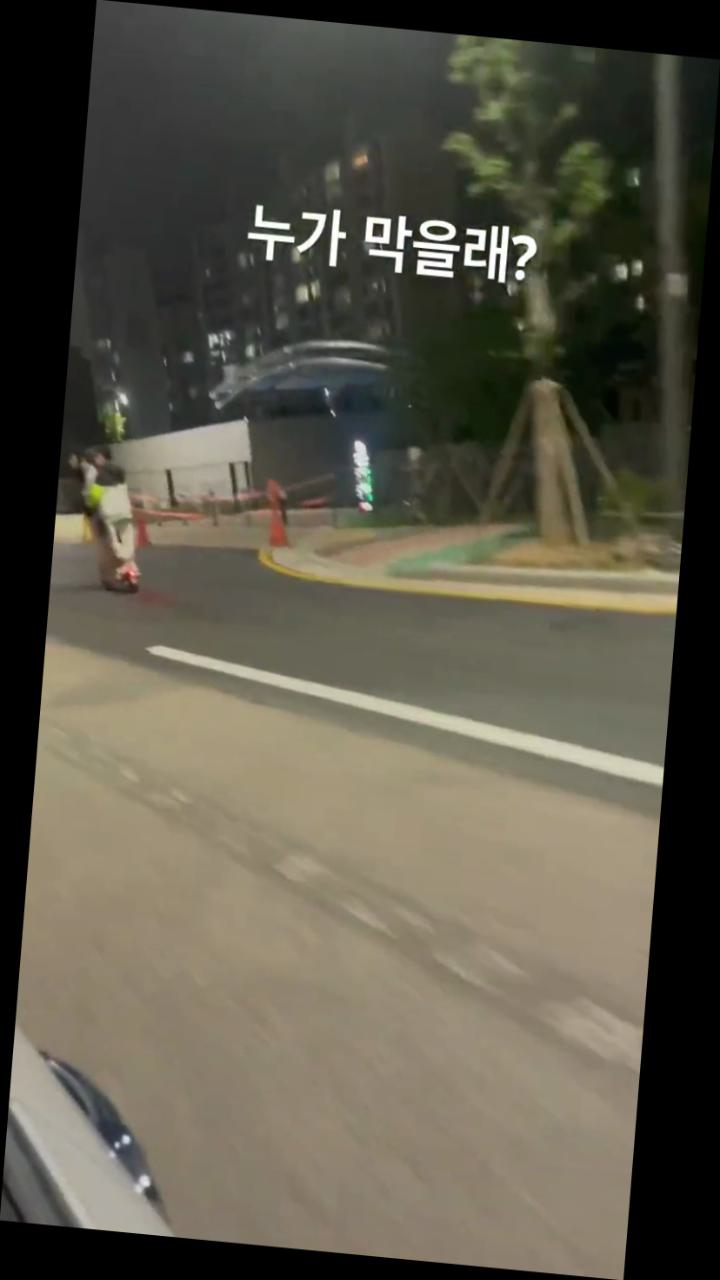multiple: (58, 438, 155, 594)
